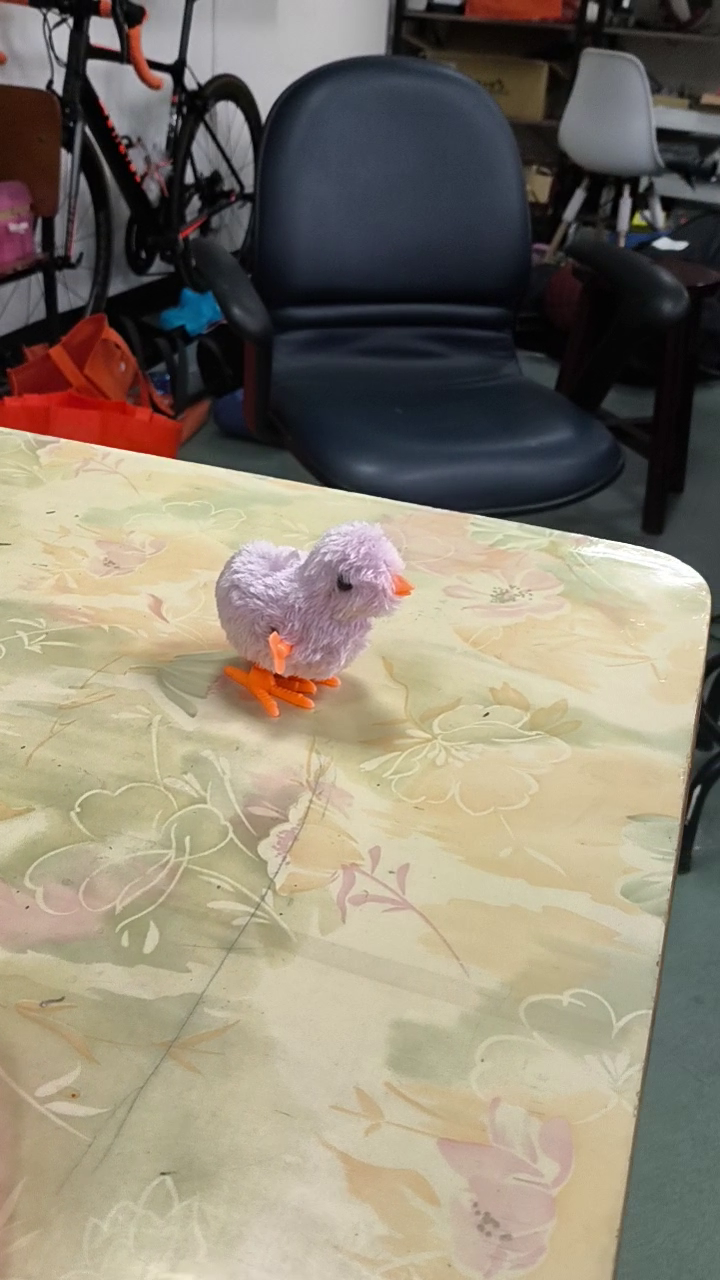pink chicken: (211, 519, 423, 719)
